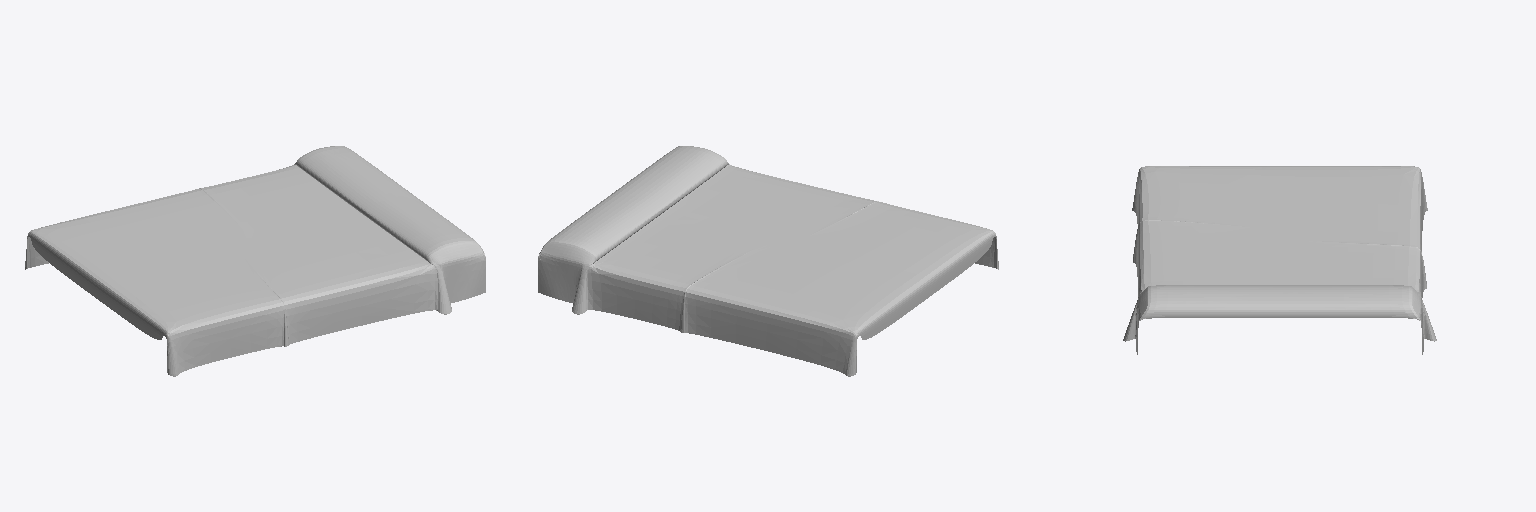
The model's file is housesp_106.obj.
3 renders of one model, left to right at view 1: azimuth 30°, elevation 25°; view 2: azimuth 150°, elevation 25°; view 3: azimuth 270°, elevation 25°, orthographic.
Size of the model in its own units: 200 by 34.73 by 170.